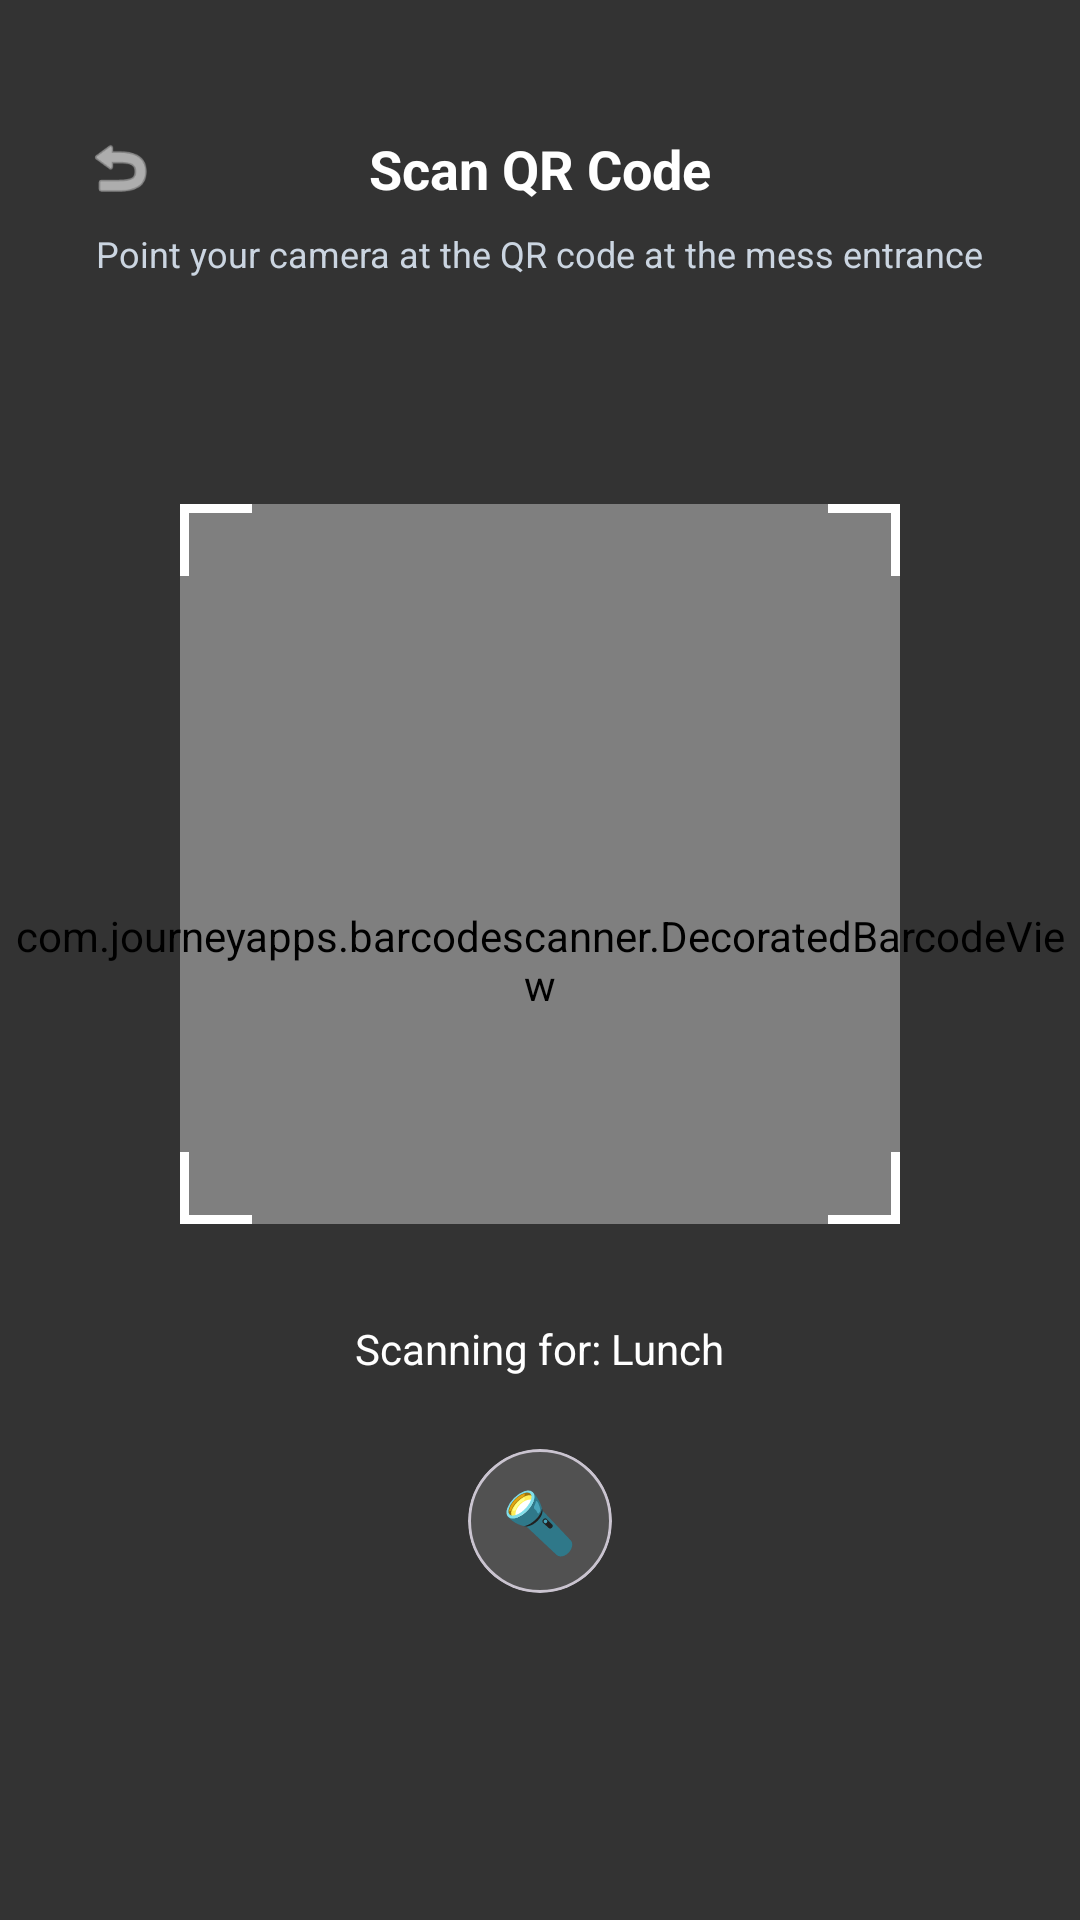

Icon click points for this 1080w x 1920h phone screenshot, format point (x, y):
revert: point (121, 168)
